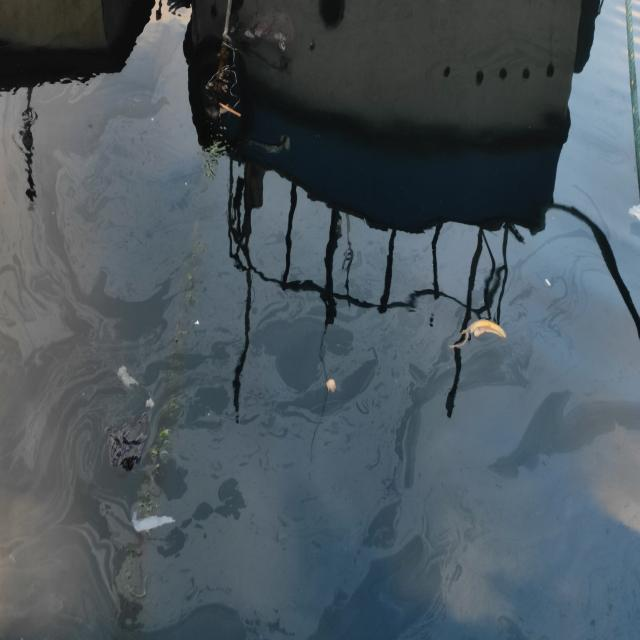Plastic bag: (103, 410, 152, 473), (117, 364, 140, 391)
Plastic packaging: (131, 508, 176, 533), (145, 396, 155, 409)
